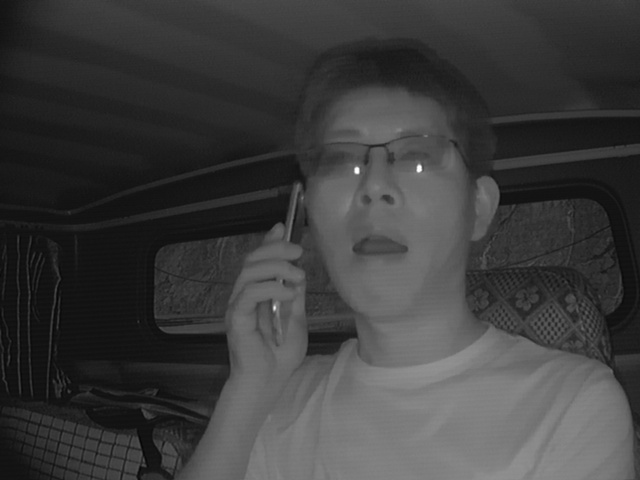hand: (215, 220, 320, 374)
